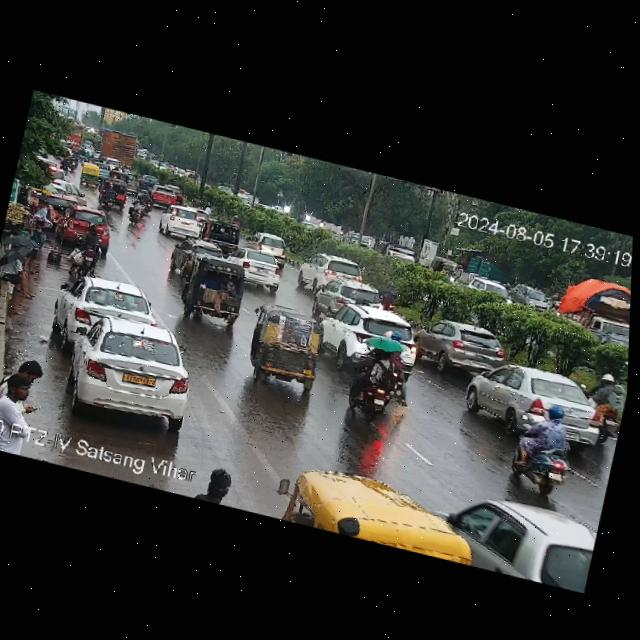car: (277, 456, 477, 564), (60, 306, 203, 431), (438, 485, 600, 594), (458, 352, 613, 444), (55, 267, 160, 347), (316, 296, 424, 364), (415, 312, 516, 384), (247, 303, 326, 387), (183, 252, 252, 325), (312, 272, 385, 322), (300, 249, 367, 299), (219, 242, 285, 292), (169, 232, 226, 283), (59, 201, 118, 247), (156, 201, 207, 243), (248, 229, 291, 267), (202, 216, 245, 251), (98, 176, 129, 204), (429, 254, 460, 280), (429, 255, 460, 278), (78, 162, 104, 189), (149, 182, 179, 204), (161, 182, 185, 203), (125, 172, 141, 195), (140, 173, 158, 188), (110, 169, 129, 183)
motorcycle: (500, 397, 582, 496), (345, 334, 410, 428), (68, 220, 109, 277), (377, 278, 401, 311), (125, 193, 146, 227), (99, 183, 122, 213), (66, 151, 79, 172), (59, 155, 71, 176), (81, 151, 91, 165)
person: (0, 350, 52, 459), (30, 198, 59, 235)
truck: (558, 272, 631, 335), (98, 127, 138, 169), (373, 237, 421, 264), (62, 120, 85, 144)
